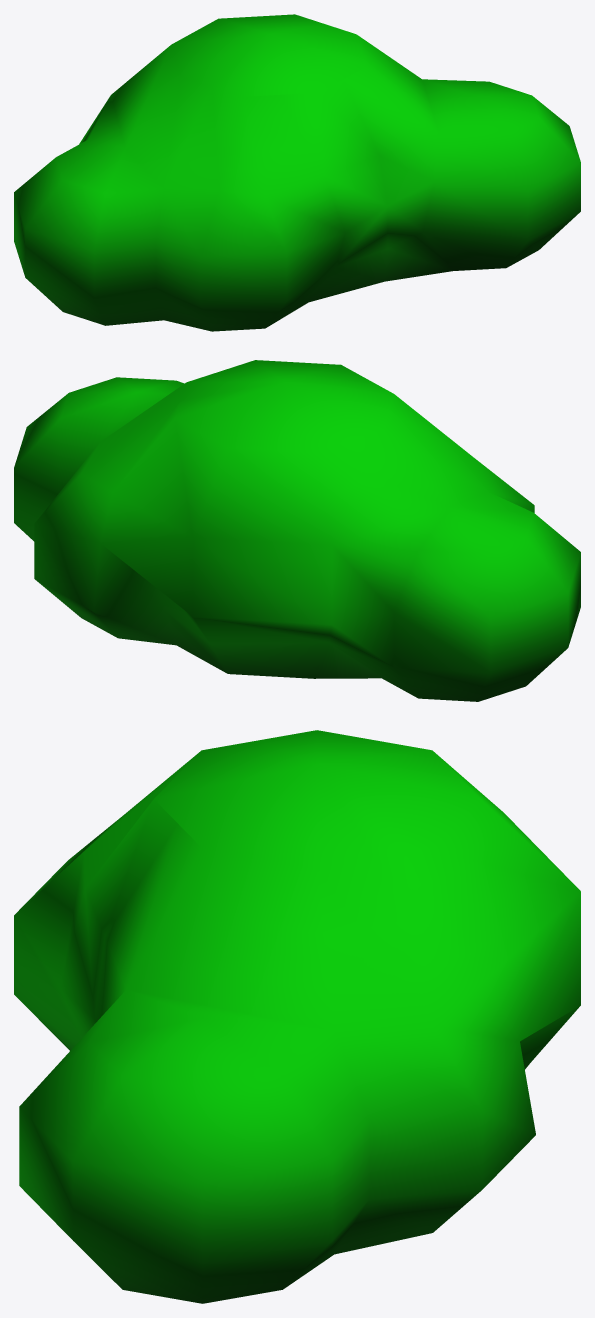
File: Arbusto.fbx
The picture shows the model from 3 angles, top to bottom: view 1: azimuth 30°, elevation 25°; view 2: azimuth 150°, elevation 25°; view 3: azimuth 270°, elevation 25°; orthographic projection. The views are drawn at different scales.
Parts seen in each view (by area): view 1: Arbusto; view 2: Arbusto; view 3: Arbusto.
Boxes of the visible parts, x1,y1,x2,y2 form: Arbusto: (14, 14, 580, 331); Arbusto: (14, 360, 580, 701); Arbusto: (14, 730, 580, 1303).
Size of the model in its own units: 345 by 143 by 204.
